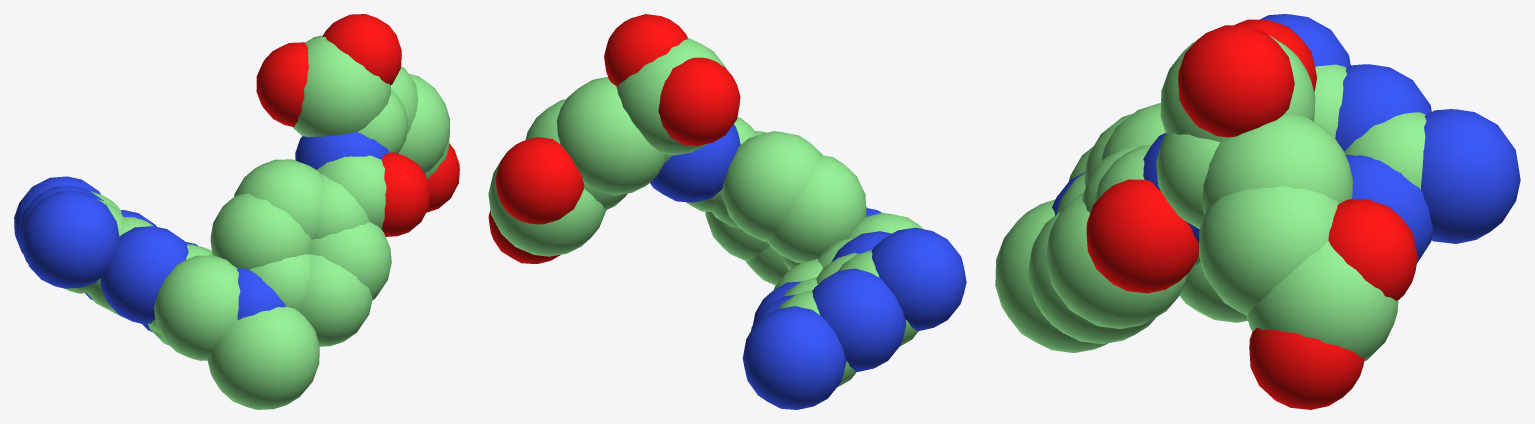
File: MTX.dae
The picture shows the model from 3 angles, left to right: view 1: azimuth 30°, elevation 25°; view 2: azimuth 150°, elevation 25°; view 3: azimuth 270°, elevation 25°; orthographic projection. The views are drawn at different scales.
Visible parts, largest first — view 1: subnode_14, subnode_5, subnode_12, subnode_25, subnode_7, subnode_19, subnode_17, subnode_20, subnode_16, subnode_26, subnode_27, subnode_22 (+13 smaller); view 2: subnode_2, subnode_28, subnode_20, subnode_5, subnode_3, subnode_19, subnode_32, subnode_26, subnode_25, subnode_30, subnode_23, subnode_27 (+12 smaller); view 3: subnode_29, subnode_2, subnode_27, subnode_30, subnode_22, subnode_28, subnode_16, subnode_31, subnode_32, subnode_14, subnode_3, subnode_24 (+13 smaller).
Part boxes in pixels (box(x1,y1,x2,y2)): subnode_14: box(207, 306, 319, 409); subnode_5: box(21, 190, 119, 288); subnode_12: box(154, 255, 240, 360); subnode_25: box(292, 35, 390, 137); subnode_7: box(100, 226, 188, 323); subnode_19: box(210, 193, 311, 269); subnode_17: box(300, 254, 372, 346); subnode_20: box(234, 159, 321, 240); subnode_16: box(309, 222, 391, 300); subnode_26: box(256, 42, 308, 126); subnode_27: box(322, 14, 401, 84); subnode_22: box(381, 152, 430, 236); subnode_2: box(742, 306, 846, 409); subnode_28: box(556, 77, 664, 195); subnode_20: box(722, 131, 822, 241); subnode_5: box(871, 227, 966, 331); subnode_3: box(812, 268, 906, 371); subnode_19: box(767, 155, 866, 263); subnode_32: box(495, 137, 584, 224); subnode_26: box(658, 57, 740, 145); subnode_25: box(616, 38, 726, 155); subnode_30: box(488, 163, 606, 256); subnode_23: box(650, 124, 740, 202); subnode_27: box(604, 14, 687, 85); subnode_29: box(1198, 186, 1339, 315); subnode_2: box(1421, 109, 1520, 243); subnode_27: box(1178, 25, 1294, 137); subnode_30: box(1246, 240, 1398, 361); subnode_22: box(1086, 179, 1198, 293); subnode_28: box(1202, 114, 1352, 215); subnode_16: box(1046, 192, 1188, 328); subnode_31: box(1249, 328, 1364, 409); subnode_32: box(1328, 199, 1417, 300); subnode_14: box(995, 199, 1107, 352); subnode_3: box(1335, 64, 1431, 151); subnode_24: box(1156, 133, 1219, 229).
Bounding box in the file's own units: 16.57 × 11.14 × 12.63.
